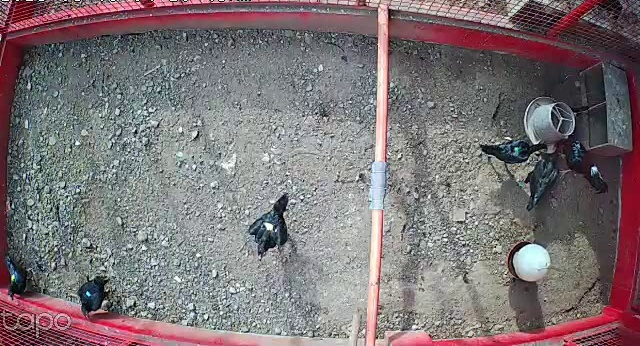Chicken: (246, 190, 297, 259), (518, 148, 563, 210), (479, 135, 549, 170), (74, 269, 113, 322), (4, 254, 36, 303)
Rooster: (557, 132, 608, 197)
Saddle_Color_Blue: (85, 290, 91, 297)
Saddle_Color_Yellow: (262, 219, 275, 231)
Saddle_Color_YellowGreen: (10, 274, 17, 284)
